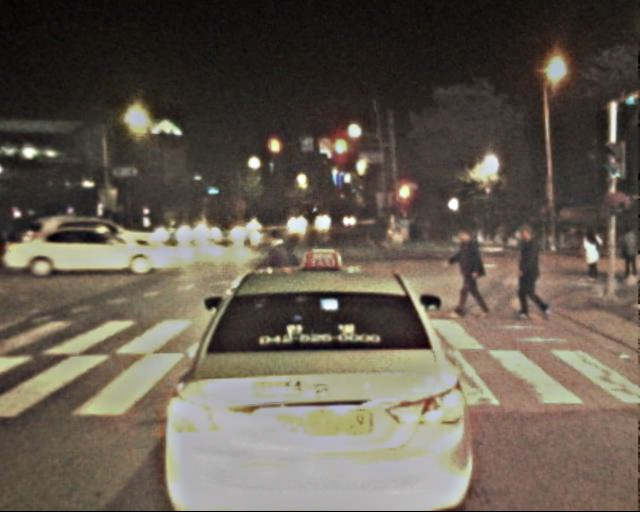person: (263, 227, 305, 329), (508, 223, 548, 321), (447, 226, 486, 321), (616, 226, 640, 284), (582, 226, 605, 282)
